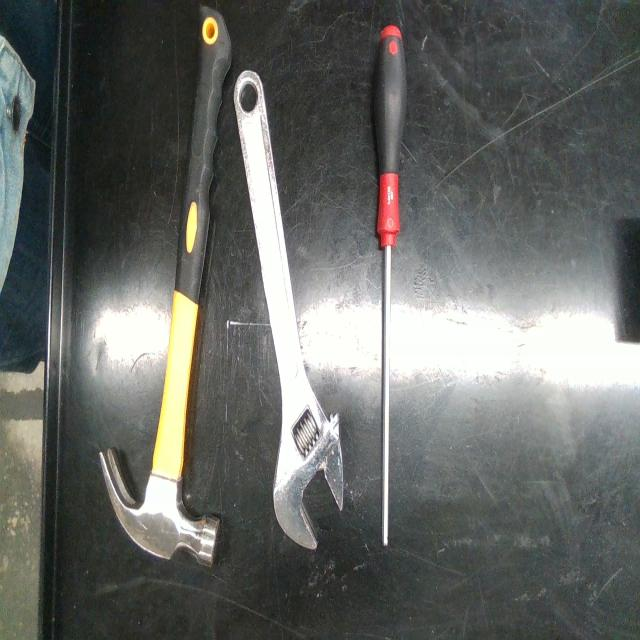Screwdriver: (374, 24, 406, 547)
